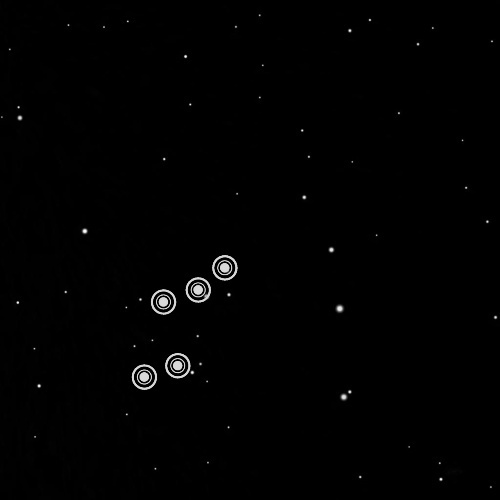lyra: (121, 241, 245, 404)
